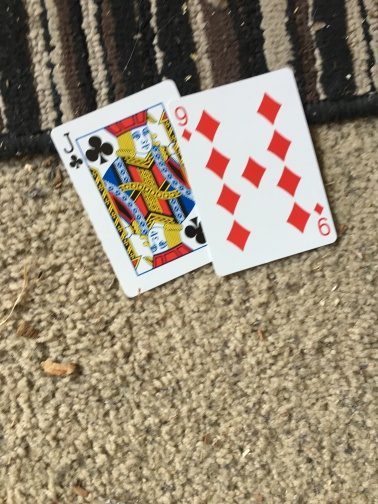jack: (48, 79, 176, 302)
nine: (166, 66, 341, 280)
